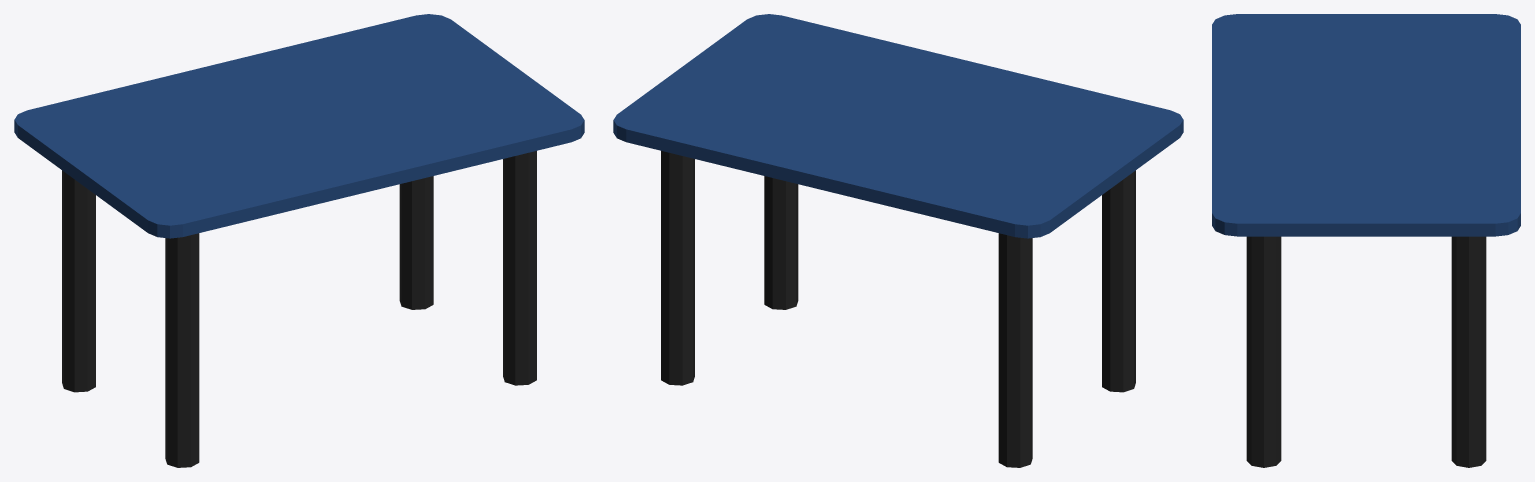
Rendered from Mesa_Media_Azul.fbx.
The picture shows the model from 3 angles, left to right: view 1: azimuth 30°, elevation 25°; view 2: azimuth 150°, elevation 25°; view 3: azimuth 270°, elevation 25°; orthographic projection.
Parts seen in each view (by area): view 1: Mesinha.001; view 2: Mesinha.001; view 3: Mesinha.001.
Part boxes in pixels (x1,y1,x2,y2): Mesinha.001: [14, 14, 584, 467]; Mesinha.001: [613, 14, 1183, 467]; Mesinha.001: [1212, 14, 1520, 467].
Size of the model in its own units: 200 by 116 by 124.
